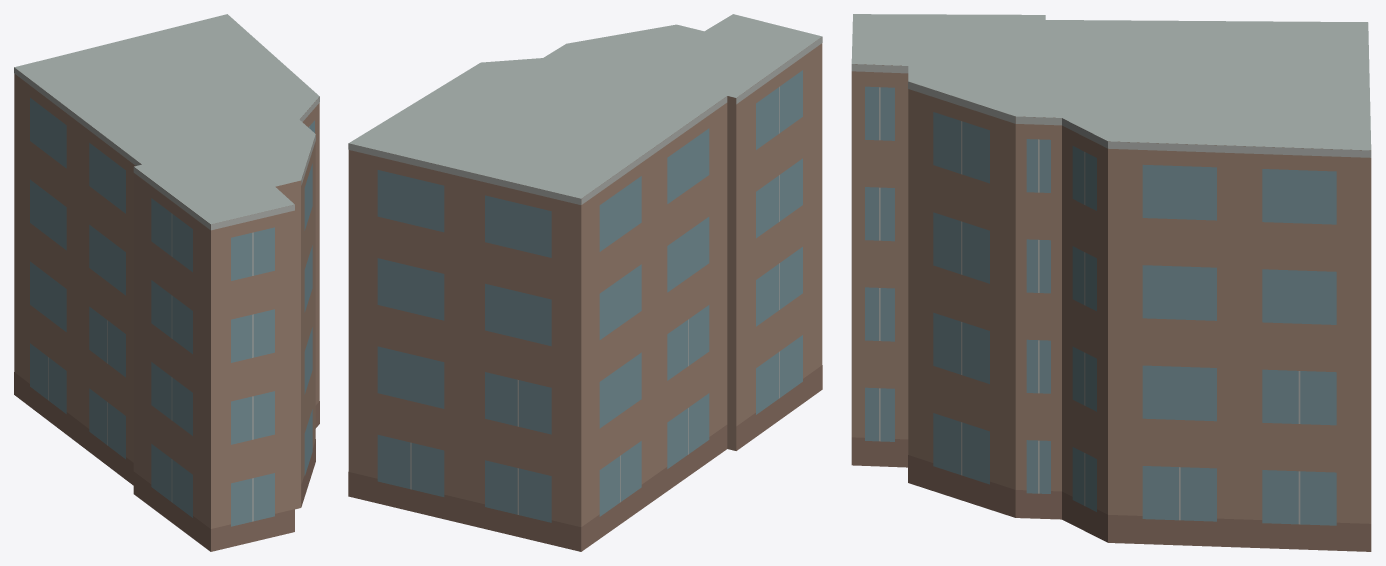
File: survey-upis-32464211.glb
3 views of the same model, side by side, from view 1: azimuth 30°, elevation 25°; view 2: azimuth 150°, elevation 25°; view 3: azimuth 270°, elevation 25° (orthographic). The views are drawn at different scales.
Visible parts, largest first — view 1: survey-upis-32464211.tmp; view 2: survey-upis-32464211.tmp; view 3: survey-upis-32464211.tmp.
Boxes of the visible parts, box(x1,y1,x2,y2) form: survey-upis-32464211.tmp: box(14, 14, 319, 551); survey-upis-32464211.tmp: box(348, 14, 822, 551); survey-upis-32464211.tmp: box(851, 14, 1371, 551).
Bounding box in the file's own units: 9.63 × 13.2 × 15.5.
